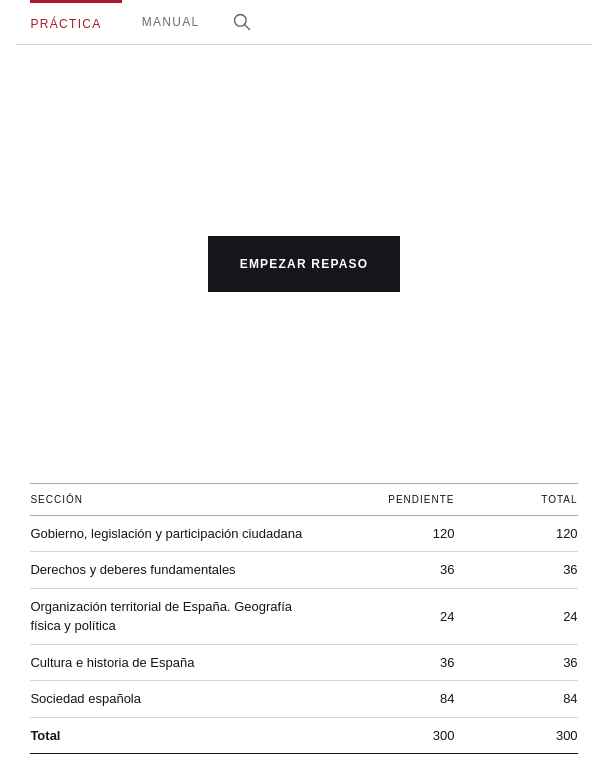
Test: App › reveals grade controls after a correct answer
The image size is (609, 768).
Click the button "Empezar repaso".
click(304, 264)  # box [208,236,400,292]
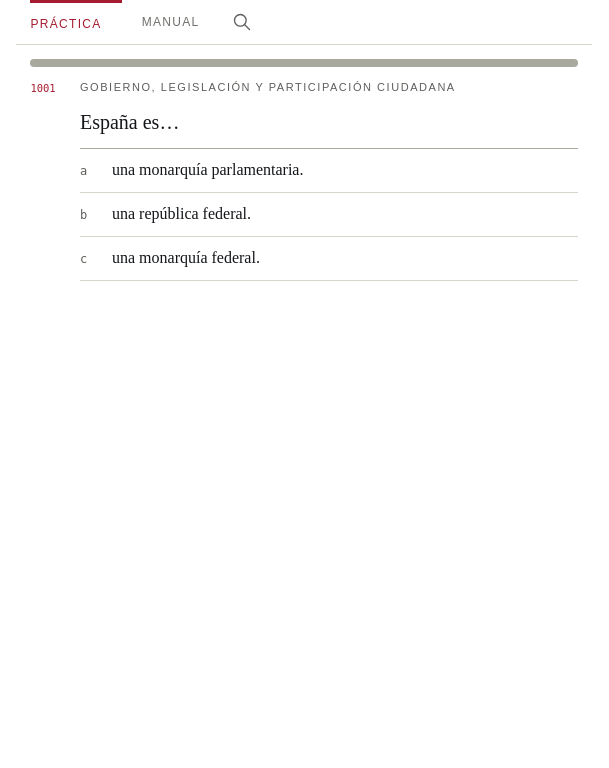
Click the button "a una monarquía parlamentaria.".
click(208, 170)  # box [80,149,578,193]
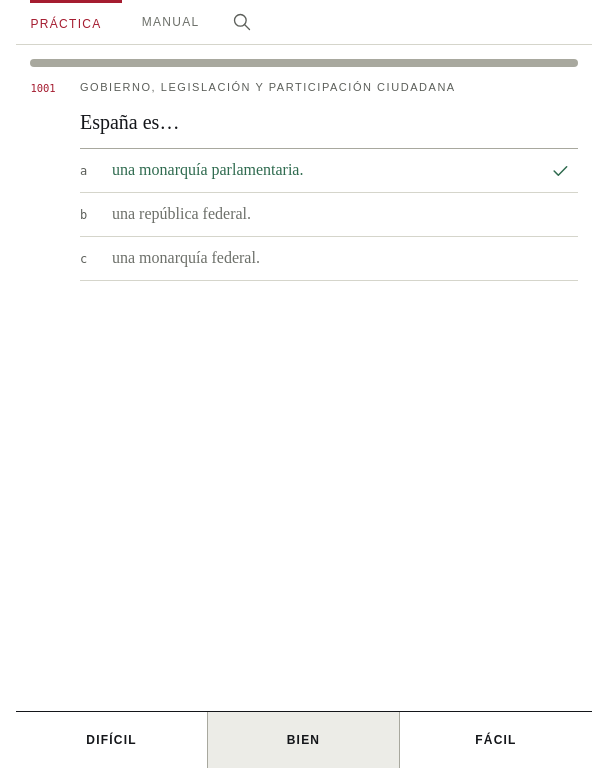
Now the button "Bien" is shown, box [208,712,400,767]
Now the button "Fácil" is shown, box [400,712,592,767]
